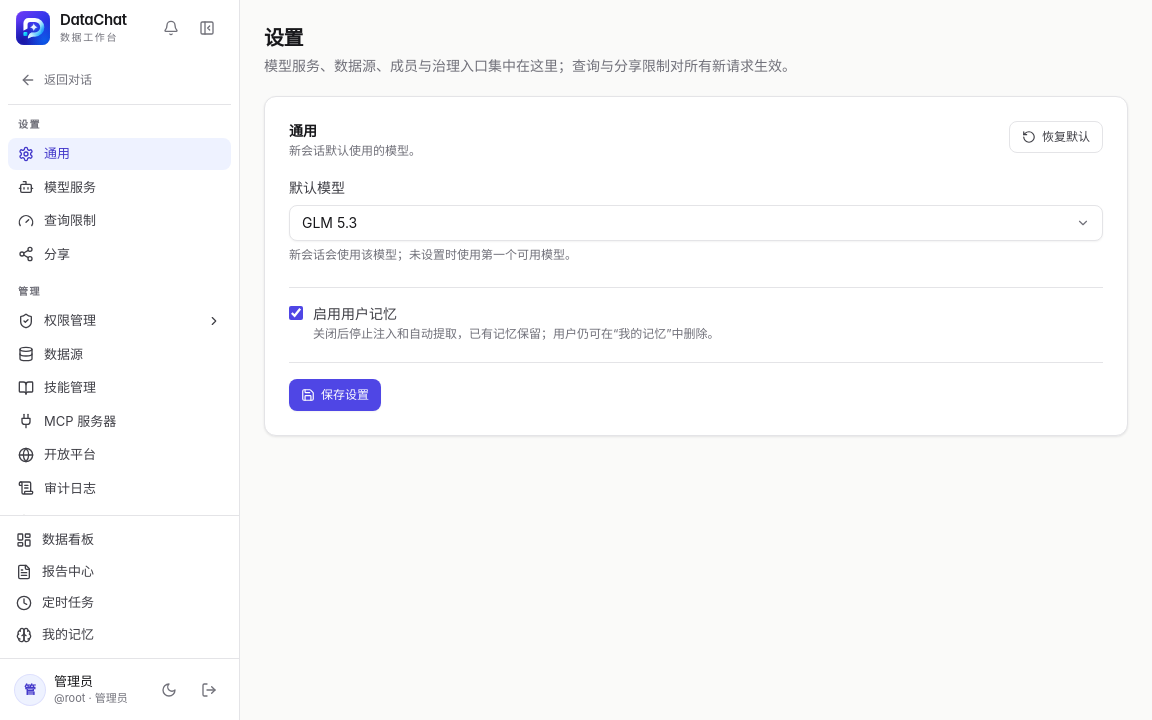
Test case: SettingsPage › surfaces server validation errors
Expected: the dropdown named "默认模型" is shown, [289,205,1103,241]
Click the button "保存设置" at [335, 395], box [289,379,381,411]
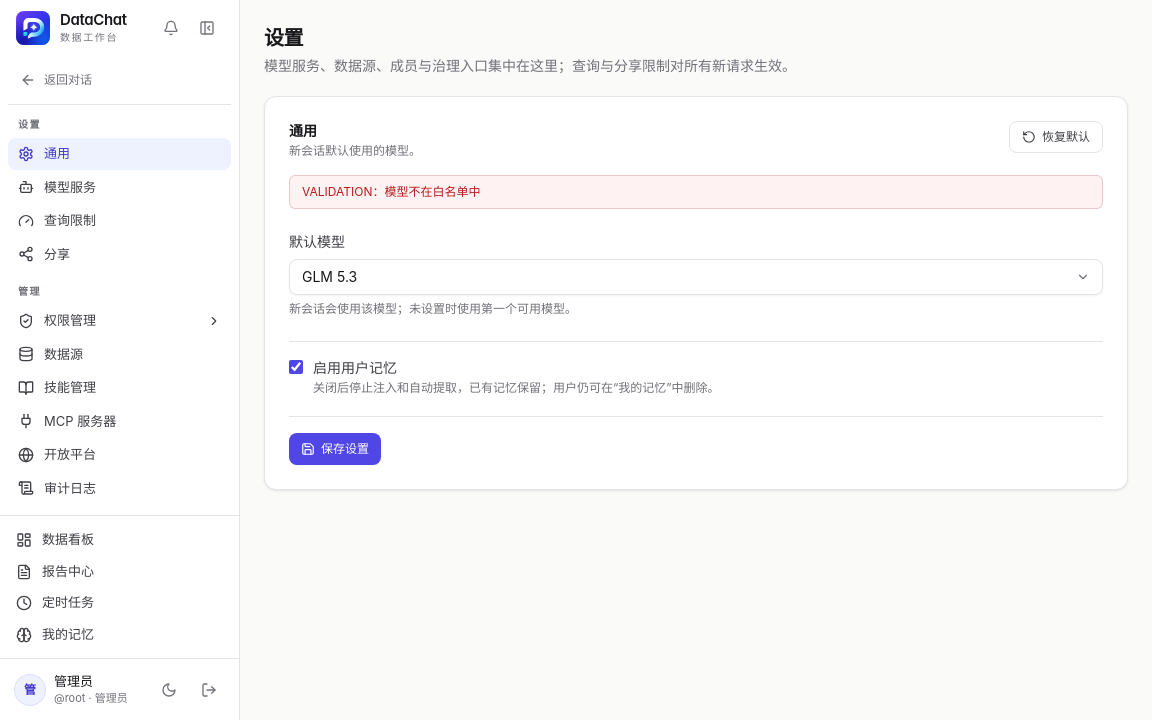
Now the message shows "模型不在白名单中", box [302,184,480,199]
